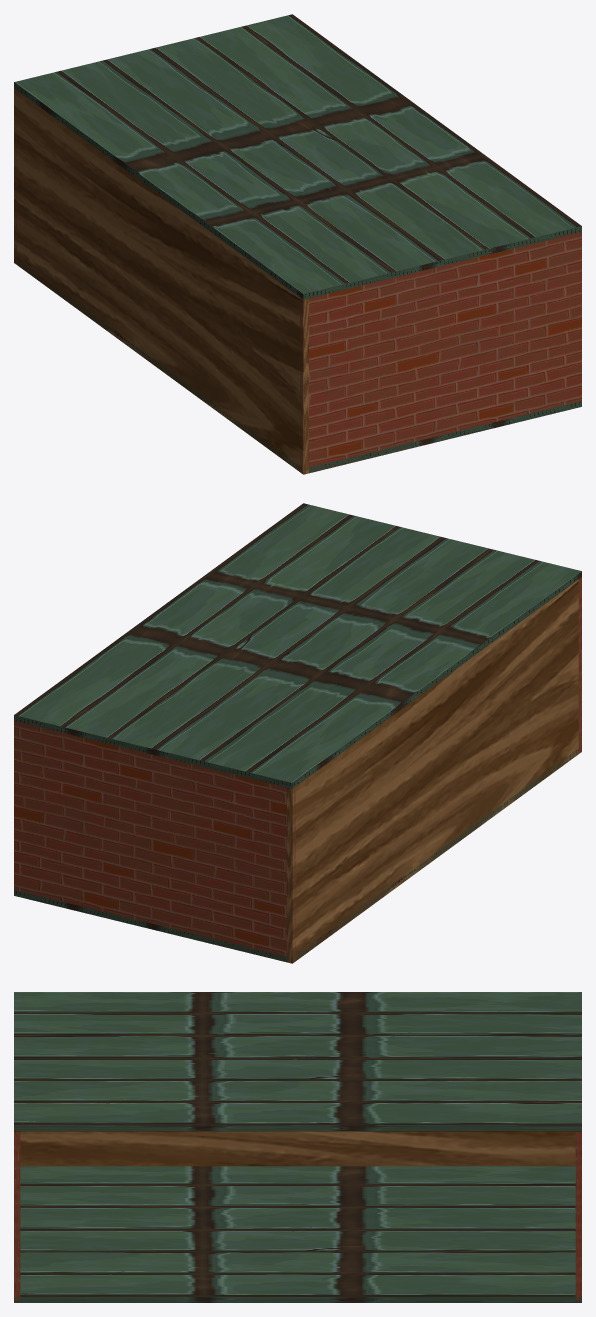
Rendered from LargeRoomBase.glb.
The picture shows the model from 3 angles, top to bottom: view 1: azimuth 30°, elevation 25°; view 2: azimuth 150°, elevation 25°; view 3: azimuth 270°, elevation 25°; orthographic projection.
Visible parts, largest first — view 1: Ceiling.002, Back.002, Left.002, Floor.002; view 2: Ceiling.002, Back.002, Right.002, Floor.002, Left.002; view 3: Ceiling.002, Floor.002, Back.002, Left.002, Right.002.
Part boxes in pixels (<box>): Ceiling.002: <box>14,14,581,299</box>; Back.002: <box>14,88,308,474</box>; Left.002: <box>300,232,581,473</box>; Floor.002: <box>14,257,581,473</box>; Ceiling.002: <box>14,503,581,788</box>; Back.002: <box>287,579,581,963</box>; Right.002: <box>14,721,295,962</box>; Floor.002: <box>14,746,581,962</box>; Left.002: <box>578,577,581,753</box>; Ceiling.002: <box>14,992,581,1131</box>; Floor.002: <box>14,1166,581,1302</box>; Back.002: <box>20,1131,575,1166</box>; Left.002: <box>14,1131,20,1302</box>; Right.002: <box>575,1131,581,1302</box>.
Bounding box in the file's own units: 5 × 3.1 × 9.
Materials: 3 (3 with a texture image).
